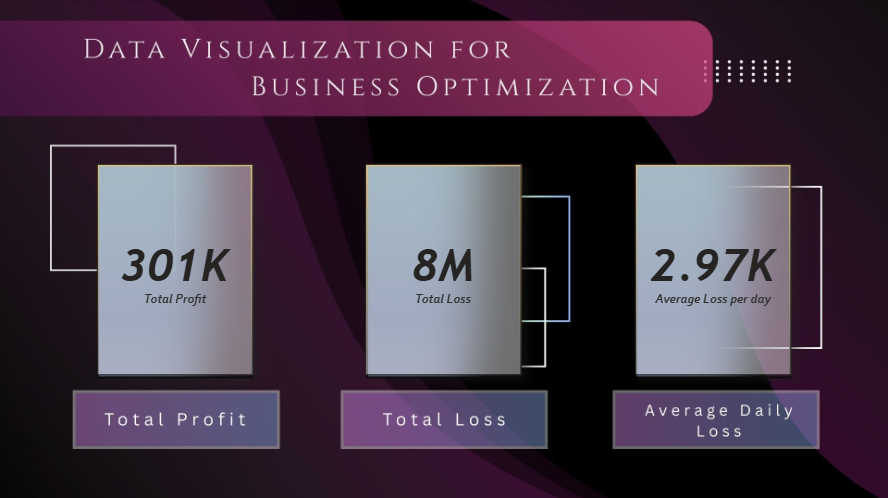

Layout of this report page (visuals, bound fields, positions):
{"tool":"powerbi","page":{"name":"Page 2","canvas":[1280,720],"ordinal":1},"visuals":[{"type":"card","fields":{"Values":["Measure Table.Total Profit"]},"box":[139.7,237.6,224.6,303.8],"z":0},{"type":"card","fields":{"Values":["Measure Table.Average Loss per day"]},"box":[914.4,237.6,224.6,303.8],"z":1000},{"type":"card","fields":{"Values":["Measure Table.Total Loss"]},"box":[525.6,237.6,224.6,303.8],"z":2000}]}

Visuals, with their boxes in screenshot pixels (x1, y1, x2, y2), scaled from the page's 1280x720 canvas onto the 888x498 screenshot:
card - Measure Table.Total Profit: <bbox>97, 164, 253, 374</bbox>
card - Measure Table.Average Loss per day: <bbox>634, 164, 790, 374</bbox>
card - Measure Table.Total Loss: <bbox>365, 164, 520, 374</bbox>
